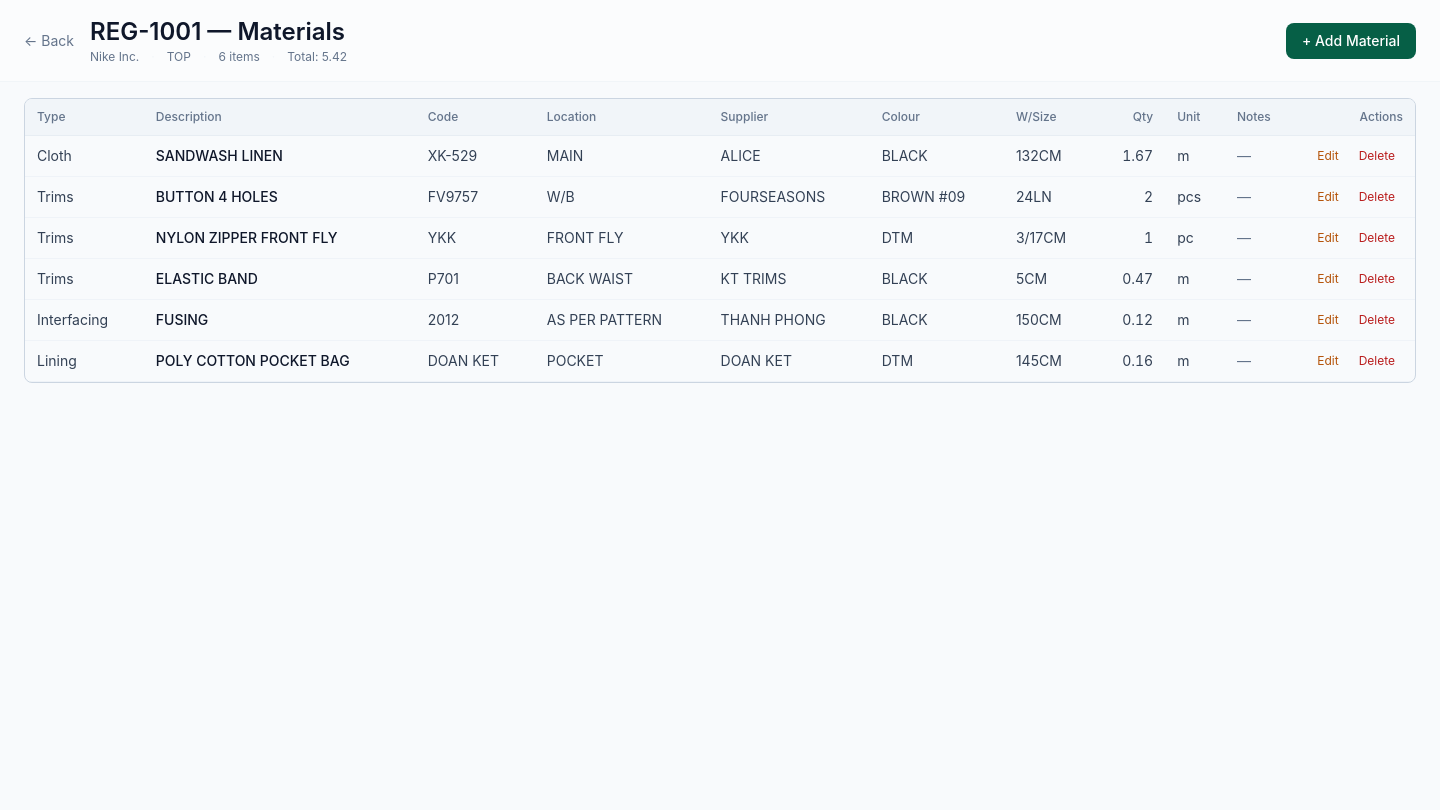
Test: DesignMaterialsPage › deletes a material after confirmation
Expected: the text "SANDWASH LINEN" is shown, 156,147 -> 283,164
Step 1. Click the button "Delete" in the row of "Cloth" → (1377, 156), box 1351,144 -> 1403,168
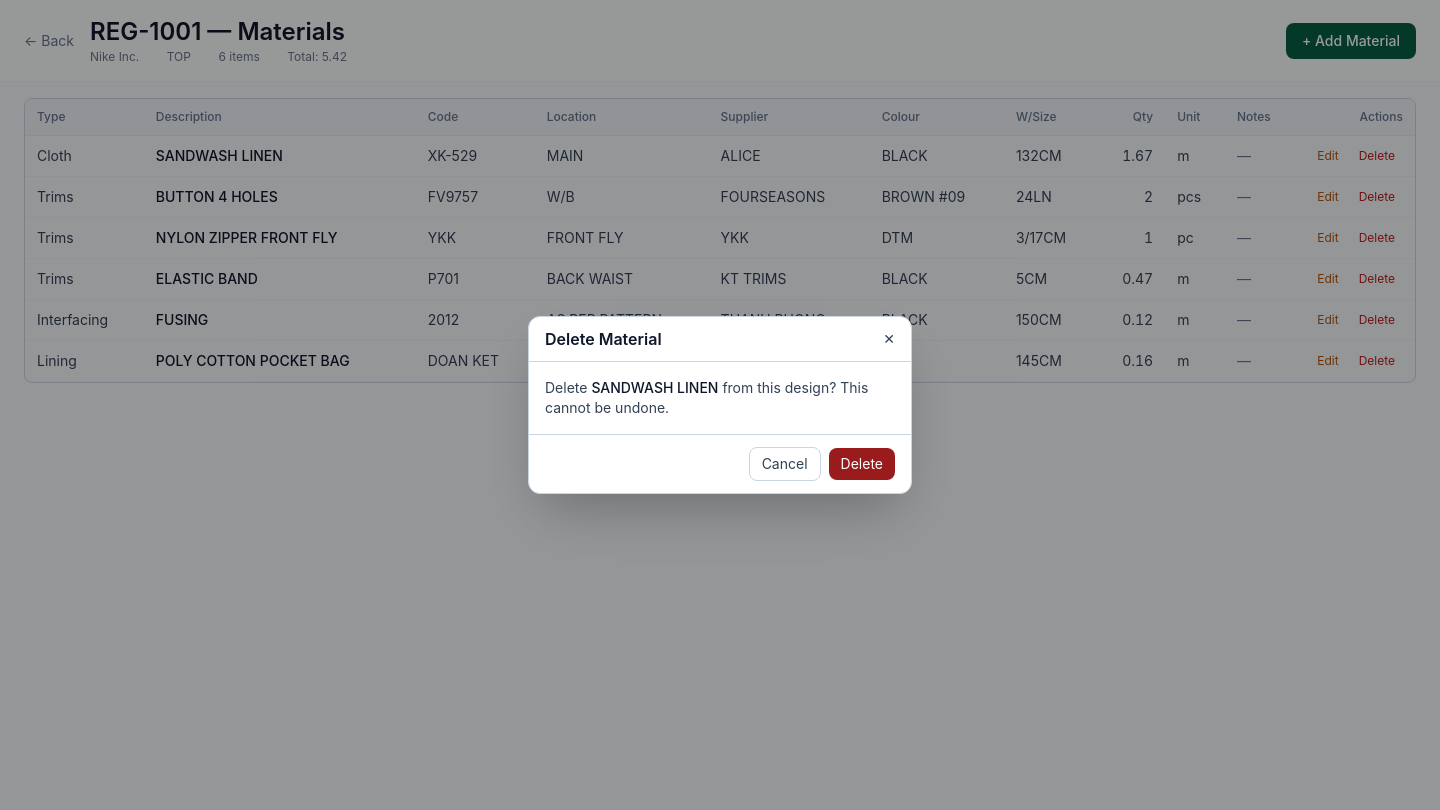
Expected: the text "SANDWASH LINEN" is shown, 591,379 -> 718,396
Step 2. Click the button "Delete" → (862, 464), box 829,448 -> 895,480
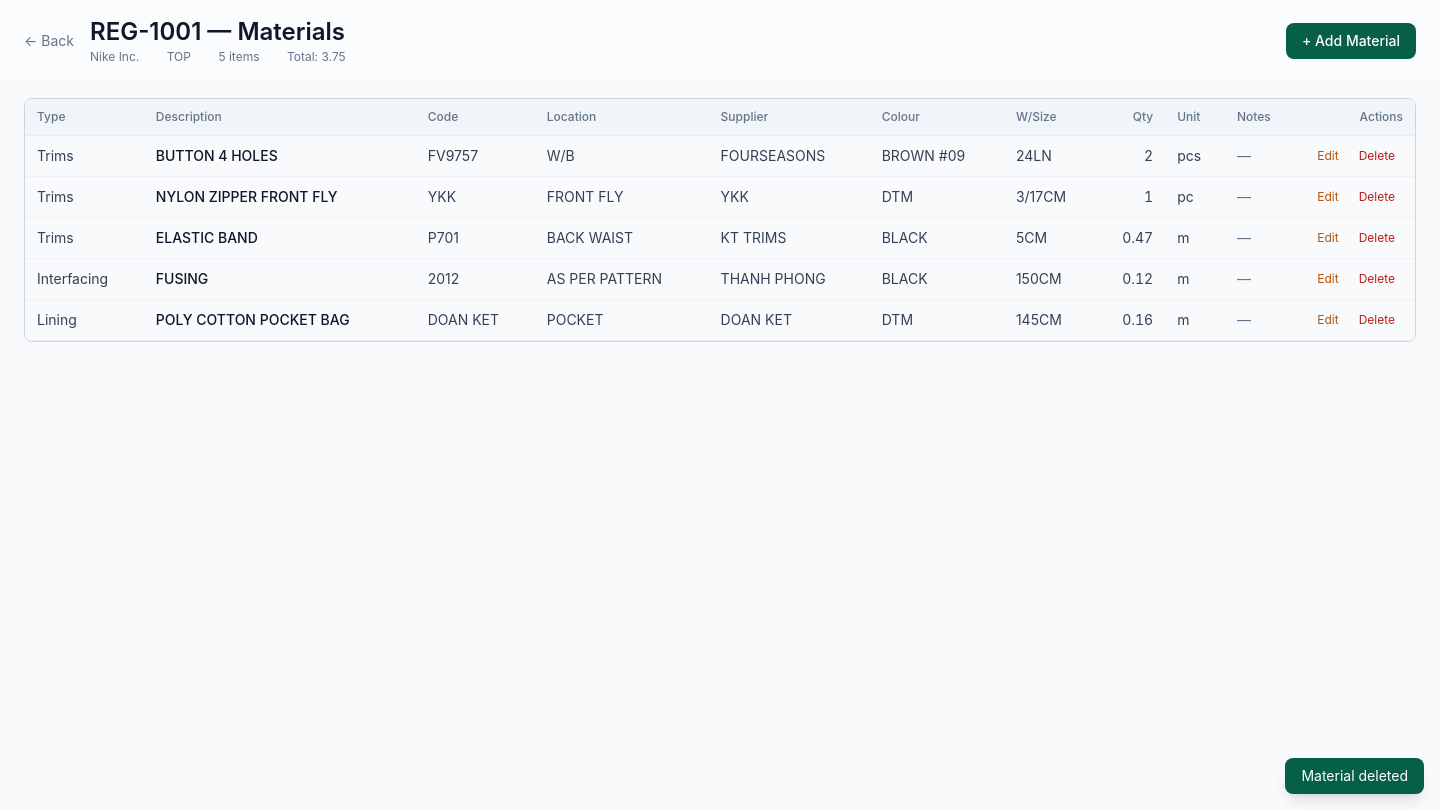
Expected: the text "SANDWASH LINEN" is gone
